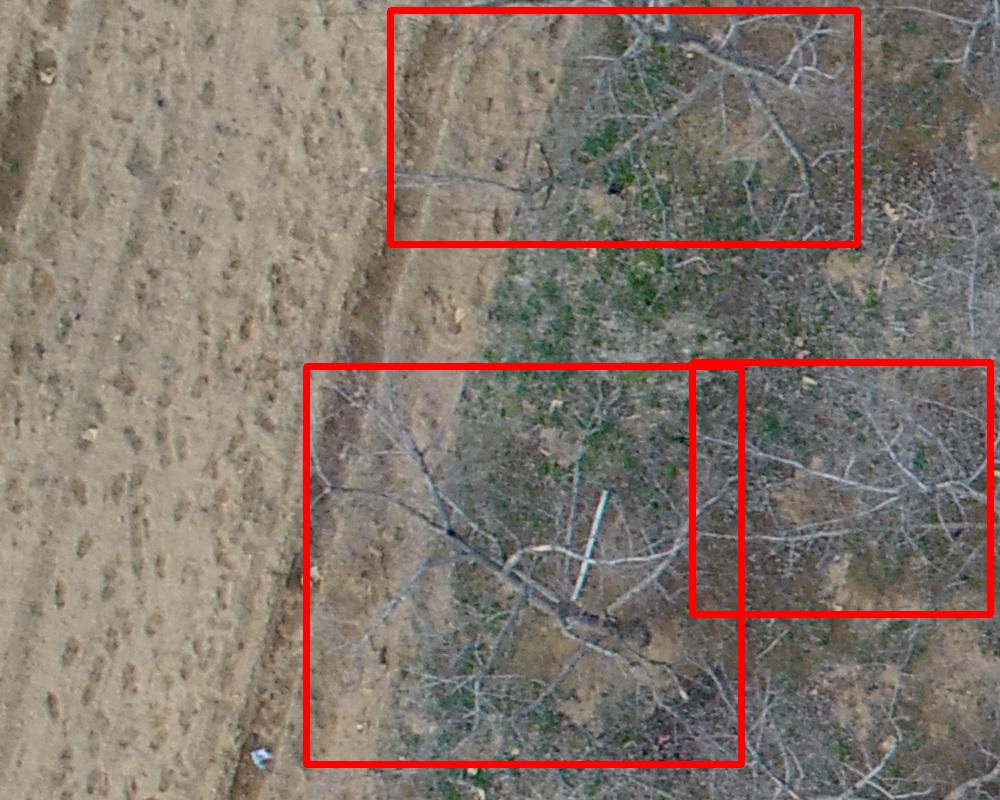apple: (306, 366, 741, 764), (390, 10, 857, 244), (692, 362, 990, 614)
